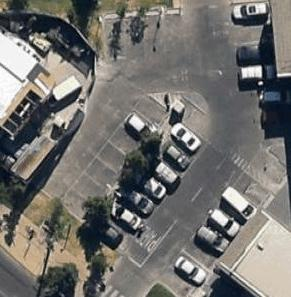parkingspot: (89, 119, 212, 258), (56, 92, 172, 227), (157, 184, 259, 297), (228, 1, 279, 93), (102, 12, 185, 51)
